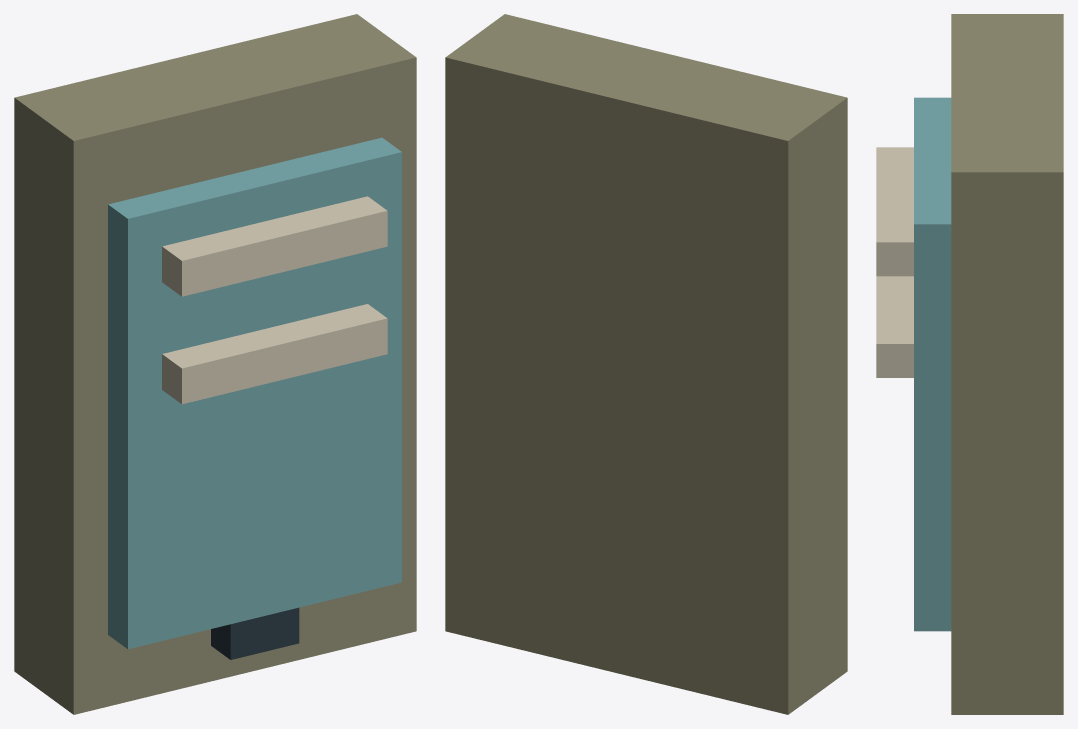
The model's file is fitness-16.glb.
The picture shows the model from 3 angles, left to right: view 1: azimuth 30°, elevation 25°; view 2: azimuth 150°, elevation 25°; view 3: azimuth 270°, elevation 25°; orthographic projection. The views are drawn at different scales.
Visible parts, largest first — view 1: Fitness tablet; view 2: Fitness tablet; view 3: Fitness tablet.
Boxes of the visible parts, x1=… form: Fitness tablet: x1=14, y1=14, x2=416, y2=714; Fitness tablet: x1=445, y1=14, x2=847, y2=714; Fitness tablet: x1=876, y1=14, x2=1063, y2=714.
Size of the model in its own units: 0.8 by 1.28 by 0.4.
